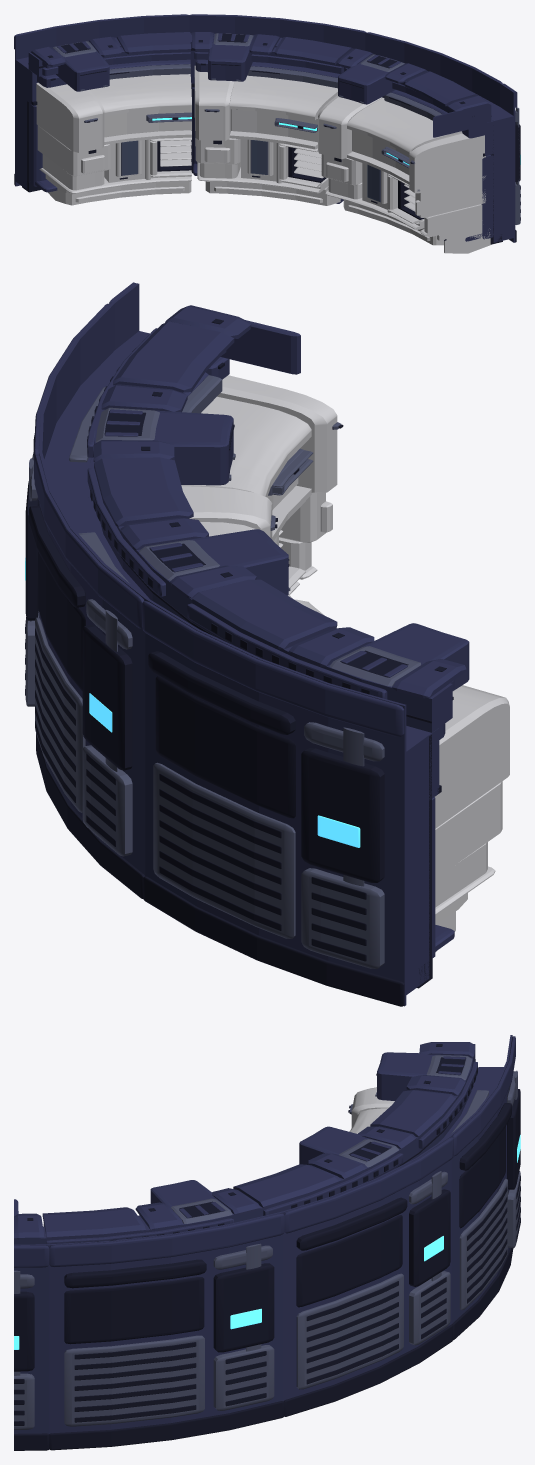
File: hull.arc2c.c.glb
3 views of the same model, one above another, from view 1: azimuth 30°, elevation 25°; view 2: azimuth 150°, elevation 25°; view 3: azimuth 270°, elevation 25° (orthographic). The views are drawn at different scales.
Visible parts, largest first — view 1: GEO-hull.arc2c.c; view 2: GEO-hull.arc2c.c; view 3: GEO-hull.arc2c.c.
Part boxes in pixels (box(x1,y1,x2,y2)): GEO-hull.arc2c.c: box(14, 14, 520, 253); GEO-hull.arc2c.c: box(25, 282, 509, 1006); GEO-hull.arc2c.c: box(14, 1035, 520, 1450).
Size of the model in its own units: 2.25 by 1 by 2.25.
